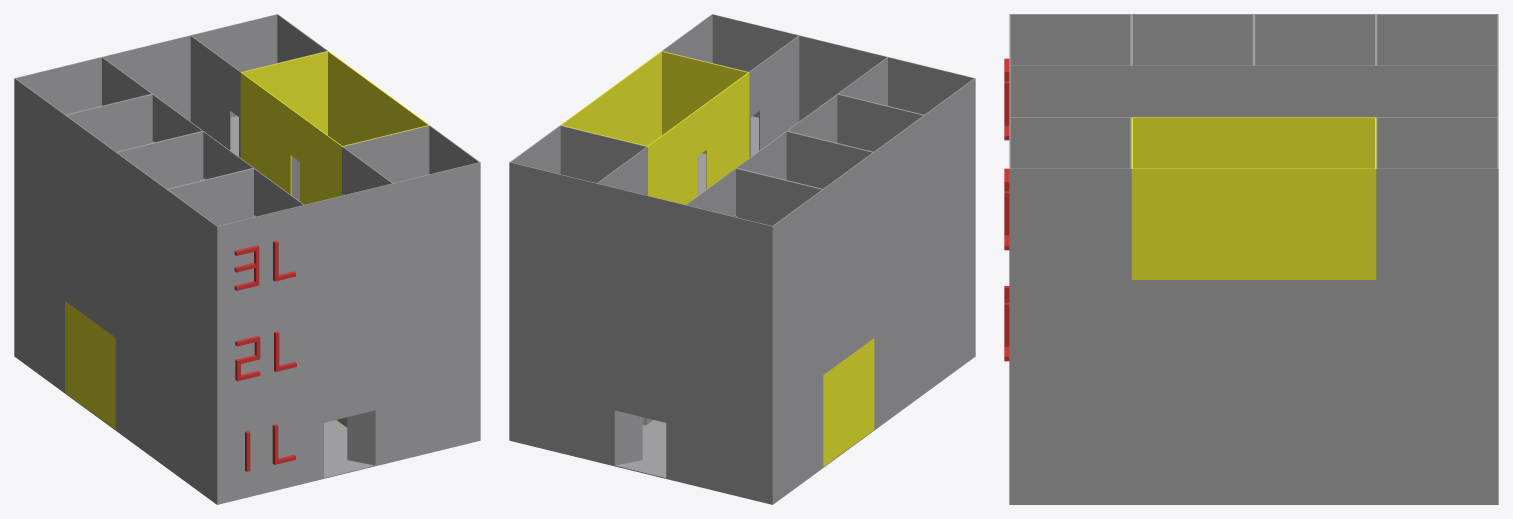
The model's file is 第一组.glb.
3 views of the same model, side by side, from view 1: azimuth 30°, elevation 25°; view 2: azimuth 150°, elevation 25°; view 3: azimuth 270°, elevation 25° (orthographic). The views are drawn at different scales.
Bounding box in the file's own units: 0.015 × 0.0151 × 0.0202.
